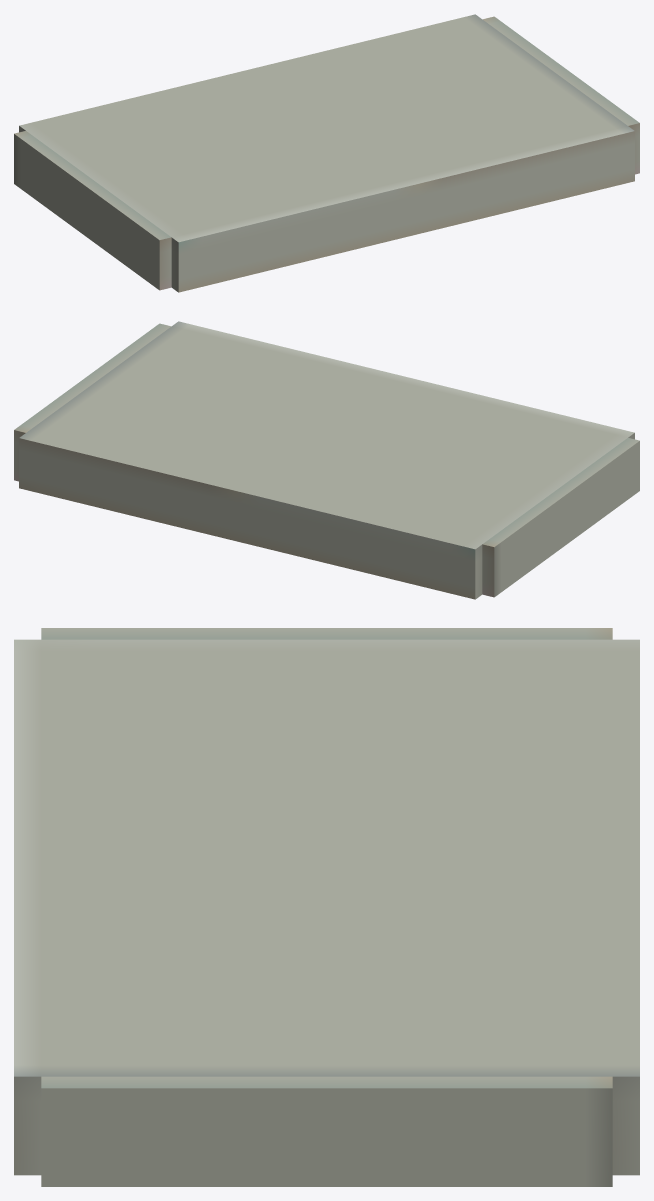
Rendered from Mattress_A_00.fbx.
The picture shows the model from 3 angles, top to bottom: view 1: azimuth 30°, elevation 25°; view 2: azimuth 150°, elevation 25°; view 3: azimuth 270°, elevation 25°; orthographic projection. The views are drawn at different scales.
Parts seen in each view (by area): view 1: Mattress_A_00; view 2: Mattress_A_00; view 3: Mattress_A_00.
Boxes of the visible parts, bbox=[...] form: Mattress_A_00: bbox=[14, 14, 639, 292]; Mattress_A_00: bbox=[14, 321, 639, 599]; Mattress_A_00: bbox=[14, 628, 639, 1186].
Size of the model in its own units: 200 by 115 by 20.
Materials: 1 (1 with a texture image).
